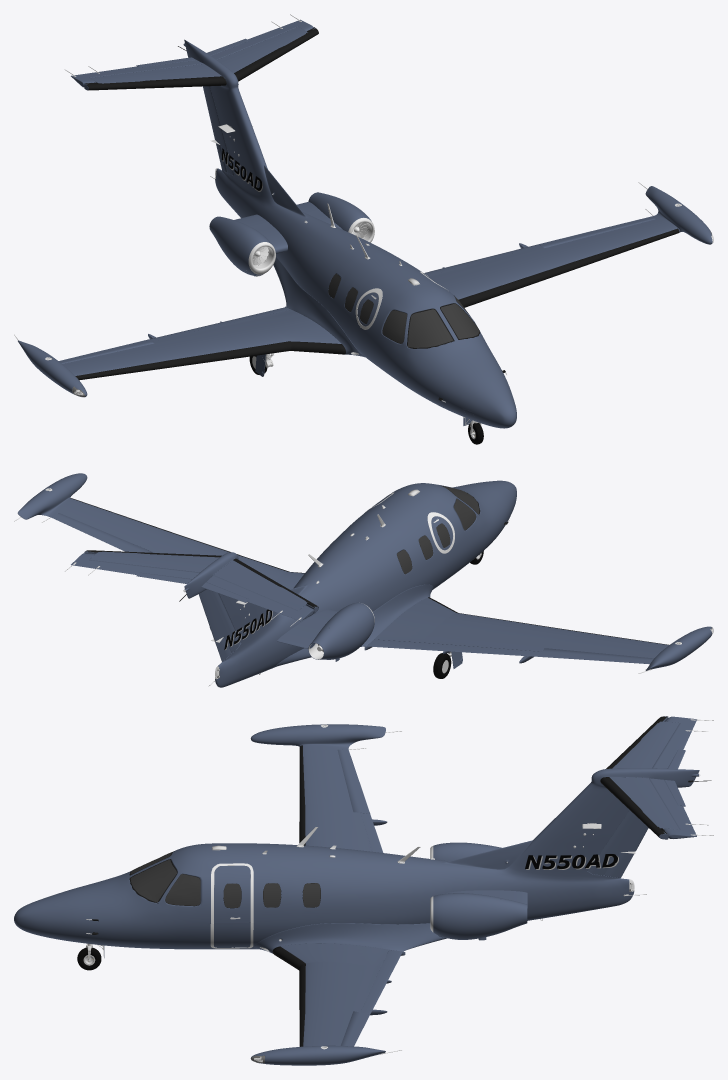
3 renders of one model, top to bottom at view 1: azimuth 30°, elevation 25°; view 2: azimuth 150°, elevation 25°; view 3: azimuth 270°, elevation 25°, orthographic. The views are drawn at different scales.
Parts seen in each view (by area): view 1: tire_lndg_rear_l_in.026, tire_lndg_rear_l_in.031, tire_lndg_rear_l_in.033, tire_lndg_rear_l_in.032, tire_lndg_rear_l_in.044; view 2: tire_lndg_rear_l_in.026, tire_lndg_rear_l_in.033, tire_lndg_rear_l_in.031, tire_lndg_rear_l_in.044, g865.001, tire_lndg_rear_l_in.032, tire_lndg_rear_l_in.041; view 3: tire_lndg_rear_l_in.026, tire_lndg_rear_l_in.033, tire_lndg_rear_l_in.031, g865, tire_lndg_rear_l_in.044, tire_lndg_rear_l_in.032.
Boxes of the visible parts, x1,y1,x2,y2 form: tire_lndg_rear_l_in.026: [18, 19, 712, 428]; tire_lndg_rear_l_in.031: [72, 27, 711, 400]; tire_lndg_rear_l_in.033: [328, 273, 479, 347]; tire_lndg_rear_l_in.032: [45, 170, 681, 402]; tire_lndg_rear_l_in.044: [14, 14, 653, 439]; tire_lndg_rear_l_in.026: [17, 473, 712, 687]; tire_lndg_rear_l_in.033: [397, 486, 479, 573]; tire_lndg_rear_l_in.031: [70, 498, 712, 678]; tire_lndg_rear_l_in.044: [14, 489, 651, 686]; g865.001: [224, 609, 272, 650]; tire_lndg_rear_l_in.032: [45, 488, 712, 679]; tire_lndg_rear_l_in.041: [433, 551, 483, 678]; tire_lndg_rear_l_in.026: [14, 716, 699, 1065]; tire_lndg_rear_l_in.033: [130, 851, 320, 907]; tire_lndg_rear_l_in.031: [91, 716, 711, 1063]; g865: [525, 854, 618, 869]; tire_lndg_rear_l_in.044: [83, 719, 713, 1054]; tire_lndg_rear_l_in.032: [86, 724, 633, 1059].
Bounding box in the file's own units: 11.6 × 3.29 × 10.4.
17 materials, 3 textured.
